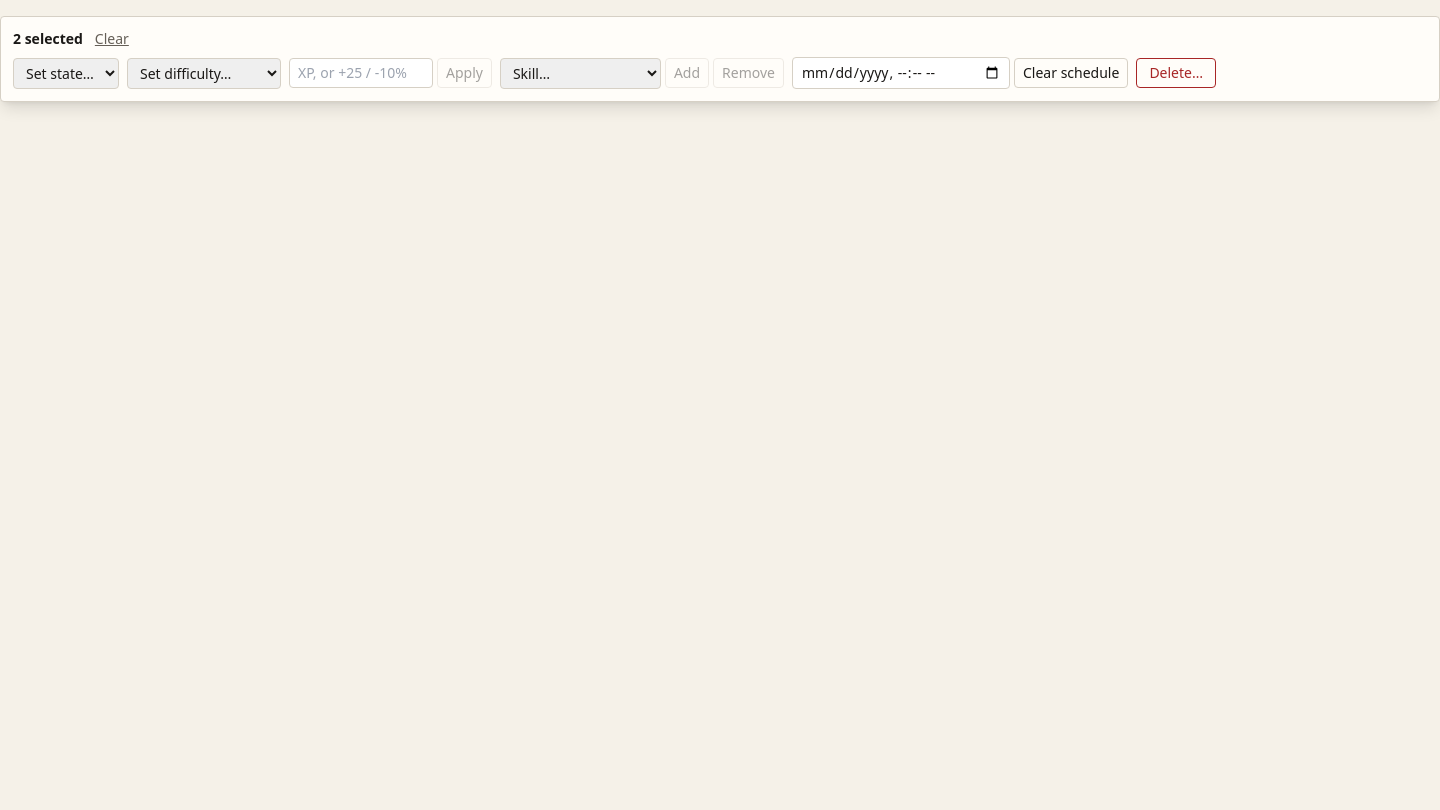
Test: BulkToolbar › says how many cannot be deleted, and offers to delete the rest
Click the button "Delete…": (1176, 73) top-left (1136, 58), bottom-right (1216, 88)
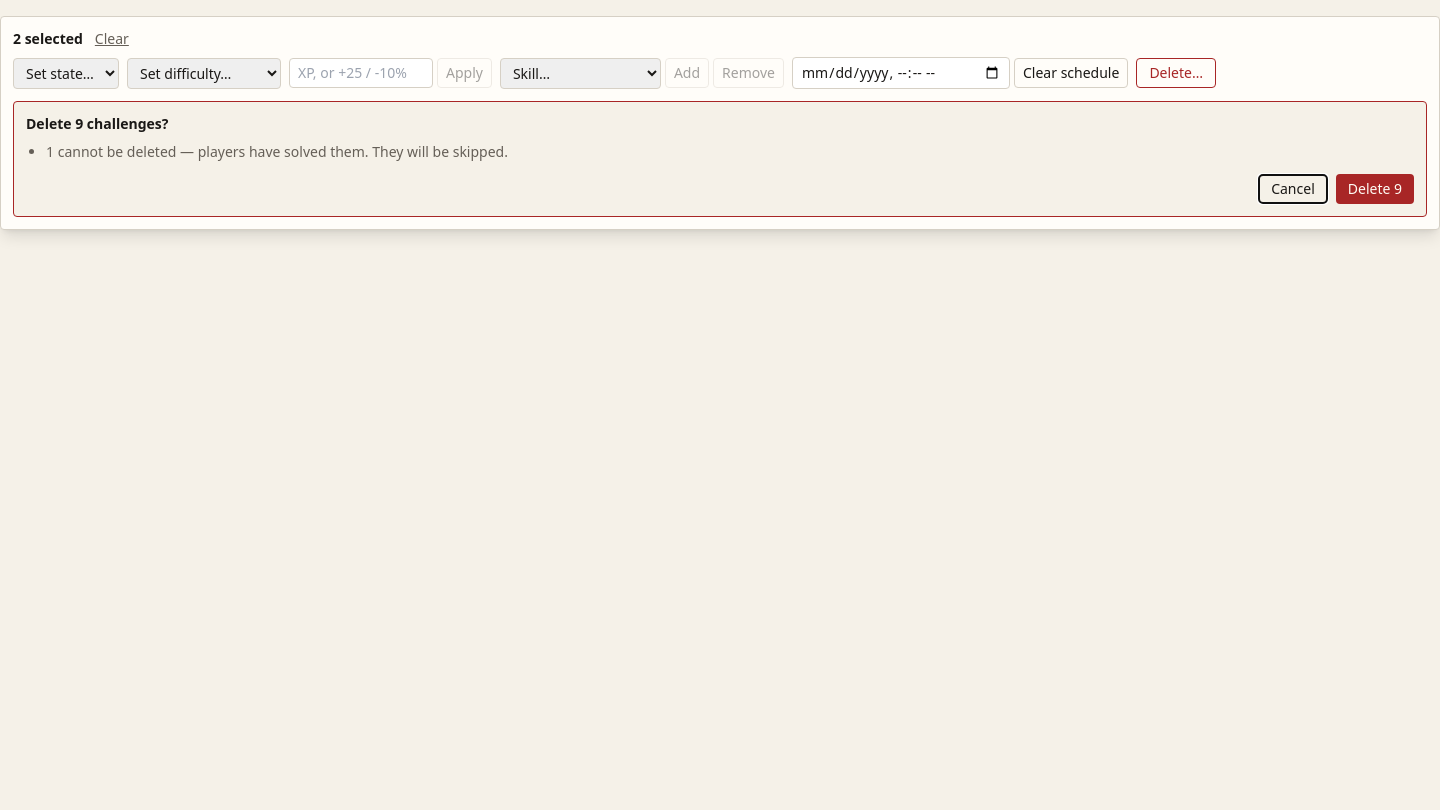
Check: the dialog named "Confirm delete" shows "1 cannot be deleted", box top-left (13, 101), bottom-right (1427, 217)
Check: the button "Delete 9" is shown, box top-left (1336, 174), bottom-right (1414, 204)
